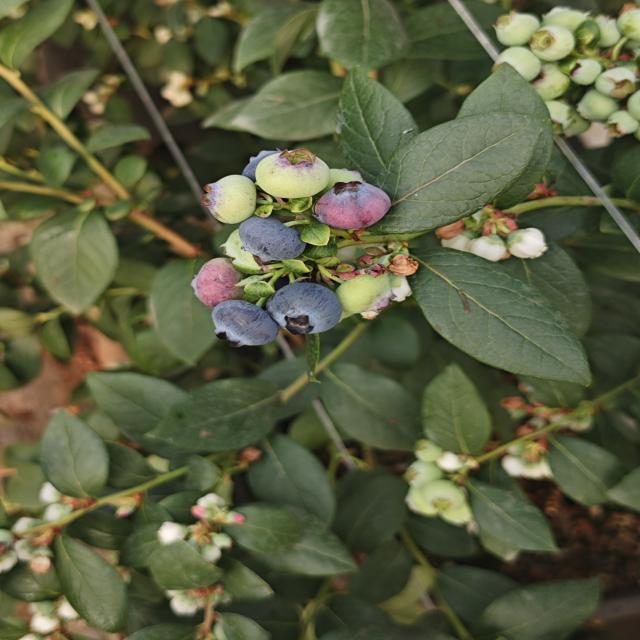ripe: (264, 280, 345, 338), (312, 179, 394, 233), (235, 214, 308, 266), (208, 298, 281, 350), (240, 142, 307, 195)
